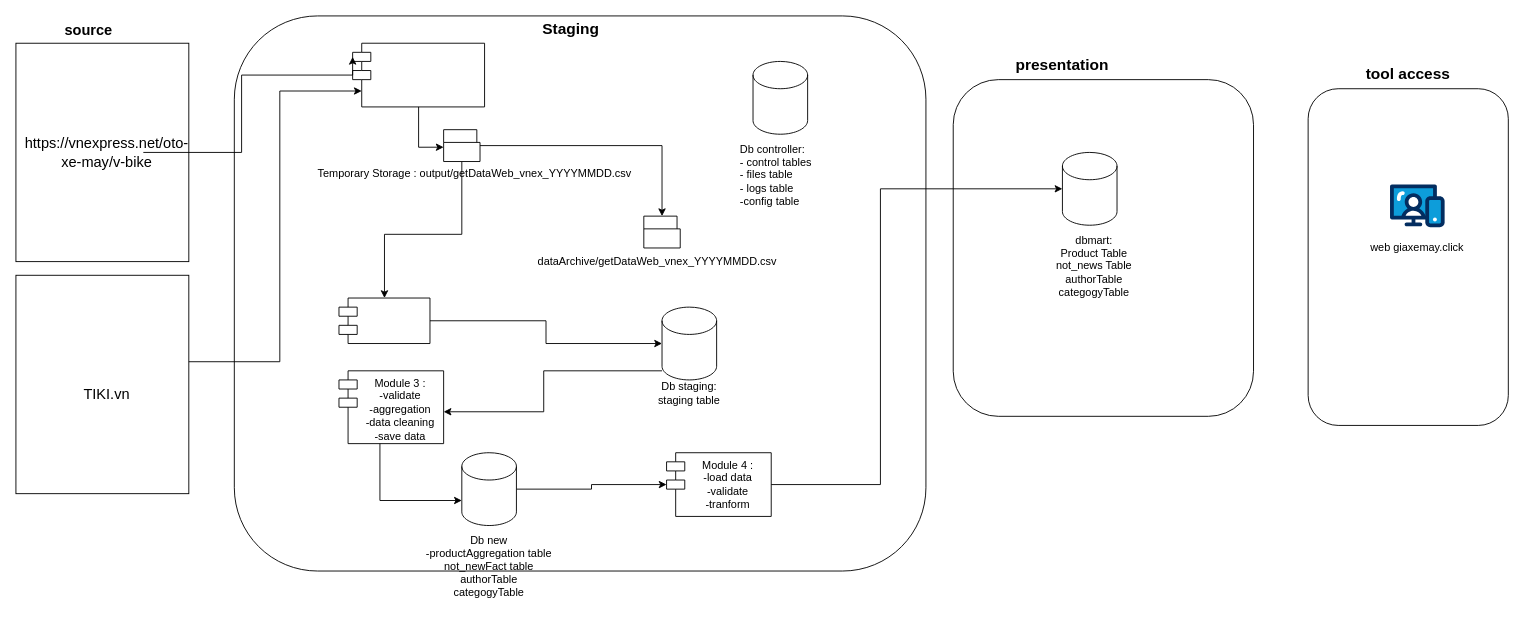
Image size: 1524x623. Some labels were removed from this diagram. Each missing label, with the centre of its shape:
Module 2 : save data: [384,320]
Module1: web scraping transform <tên file code>: [418,74]
